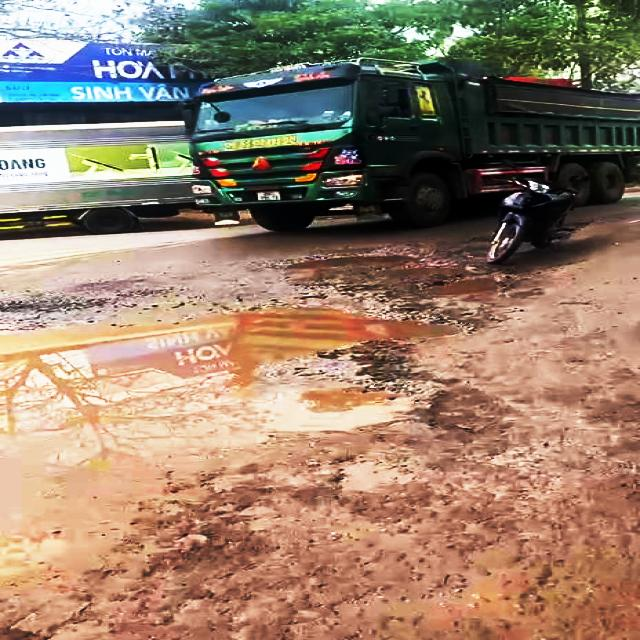pothole: (0, 298, 483, 446), (281, 248, 531, 298)
